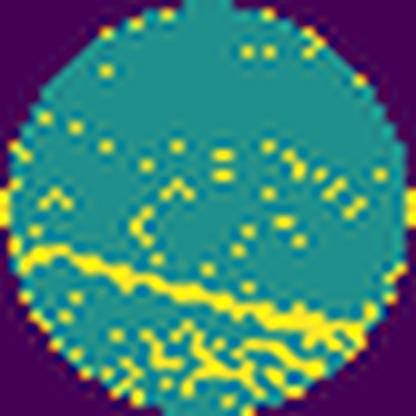Scratch: (14, 240, 377, 358), (168, 315, 328, 401)
